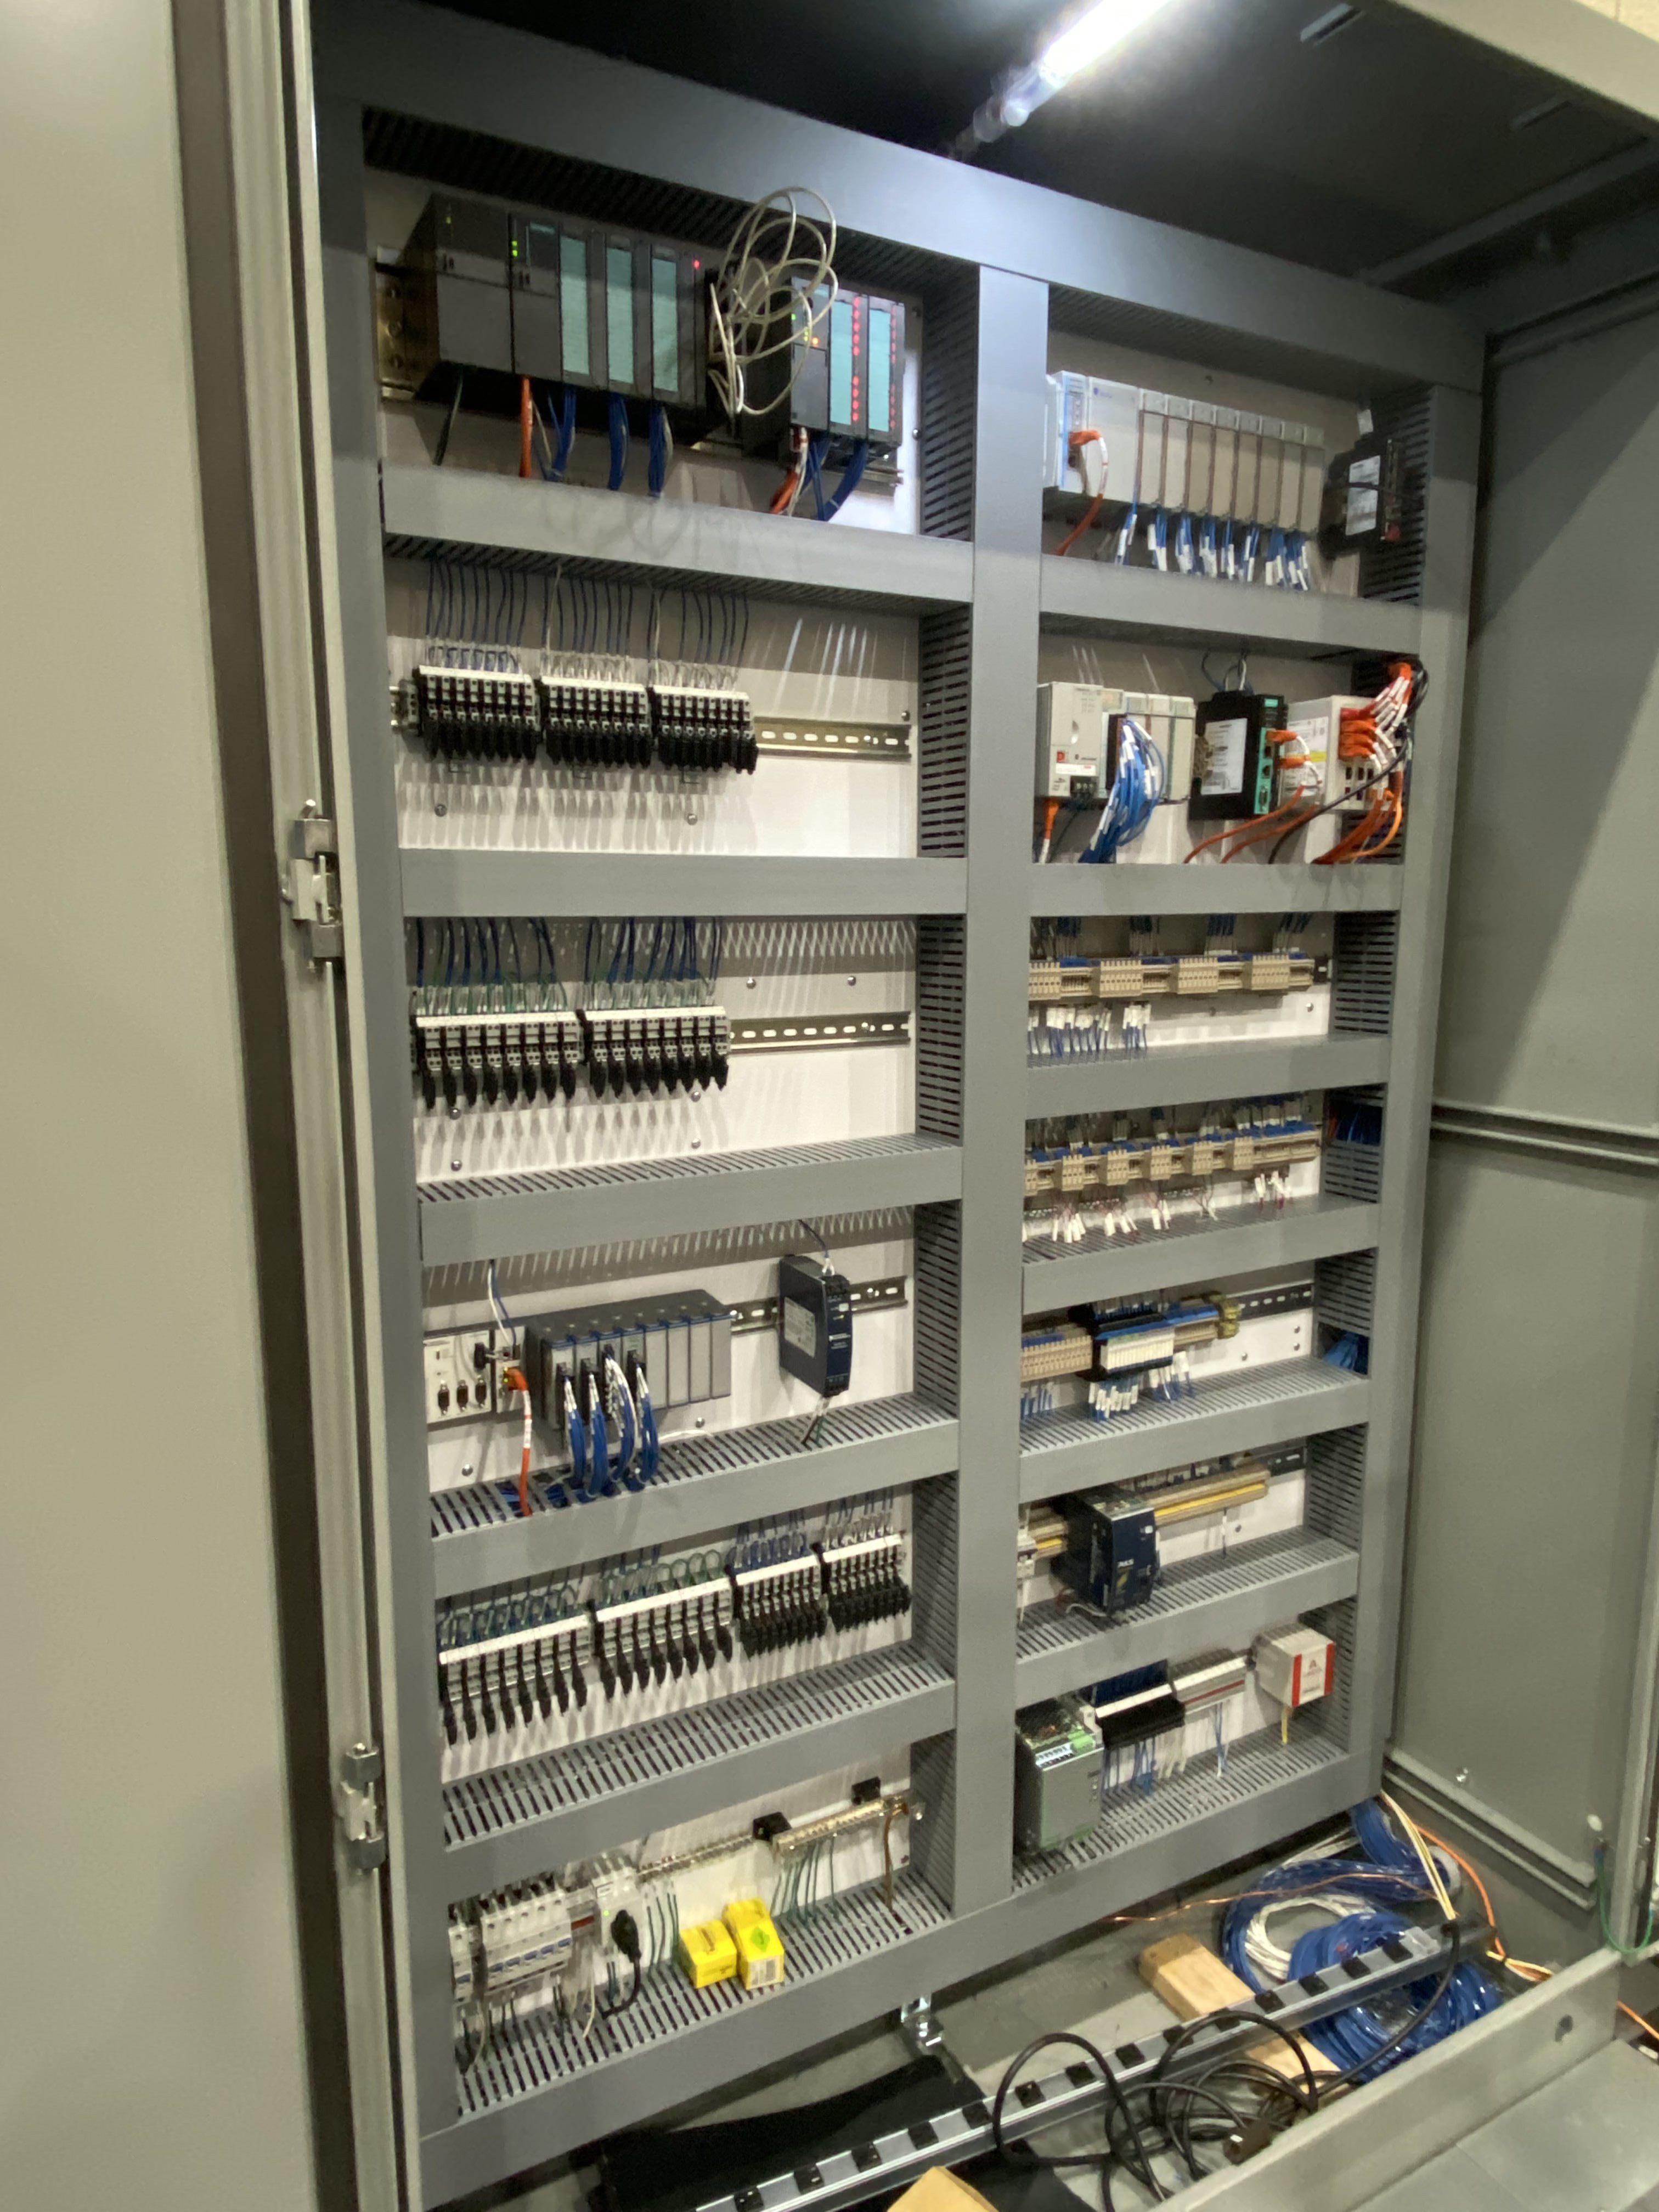AllenBradley: (1044, 678, 1103, 806)
Siemens: (505, 204, 566, 388)
